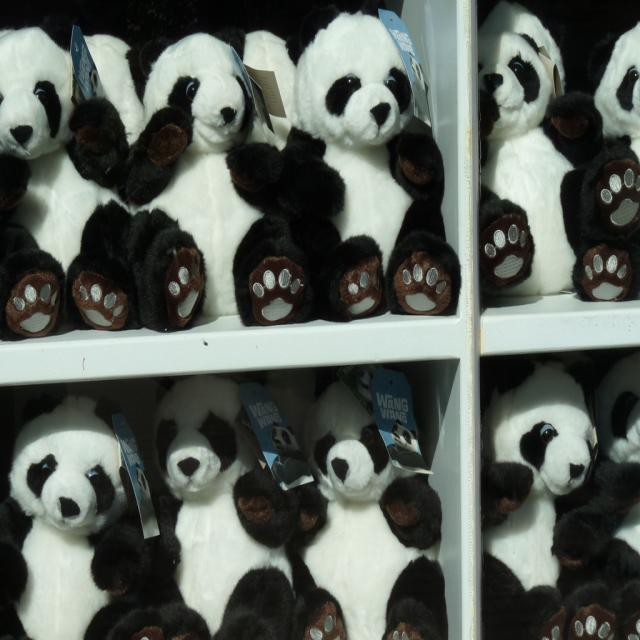panda: (131, 19, 317, 335), (287, 0, 460, 324), (477, 0, 630, 303), (0, 0, 134, 339), (285, 355, 440, 640), (0, 381, 164, 639), (480, 351, 613, 640), (158, 369, 298, 640), (588, 346, 640, 640), (588, 16, 640, 241)
